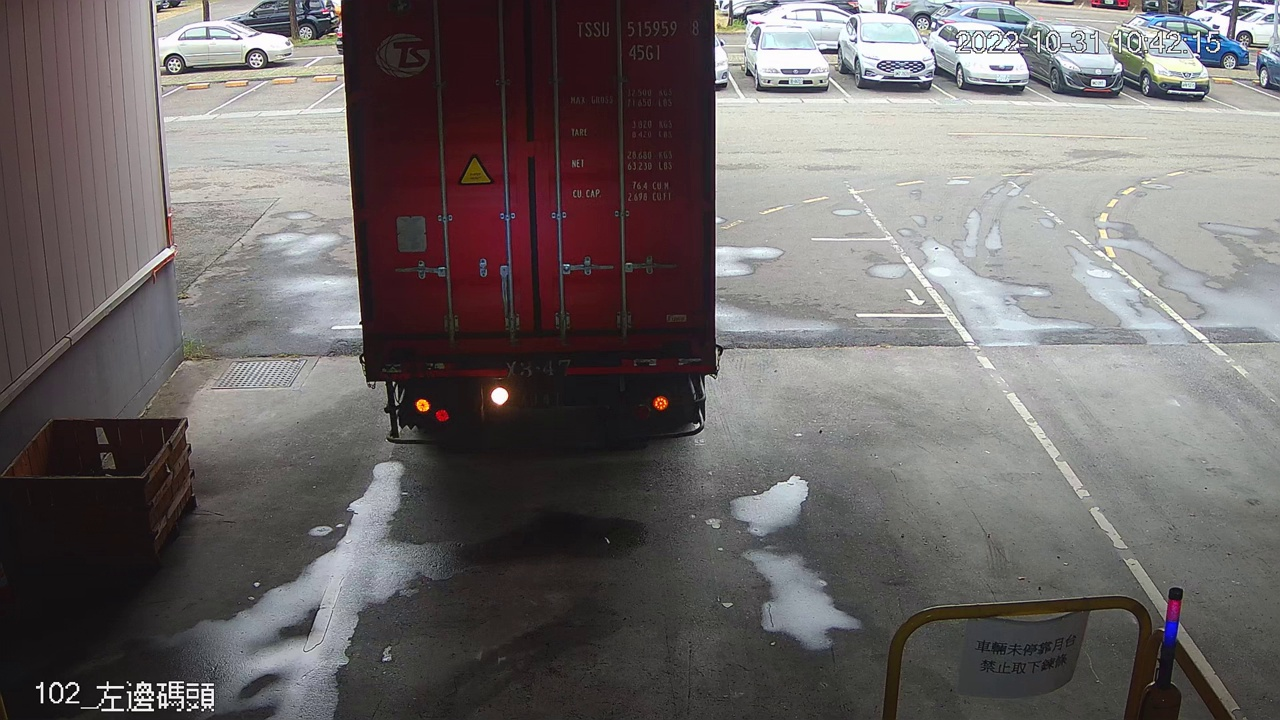container: (568, 10, 704, 66)
